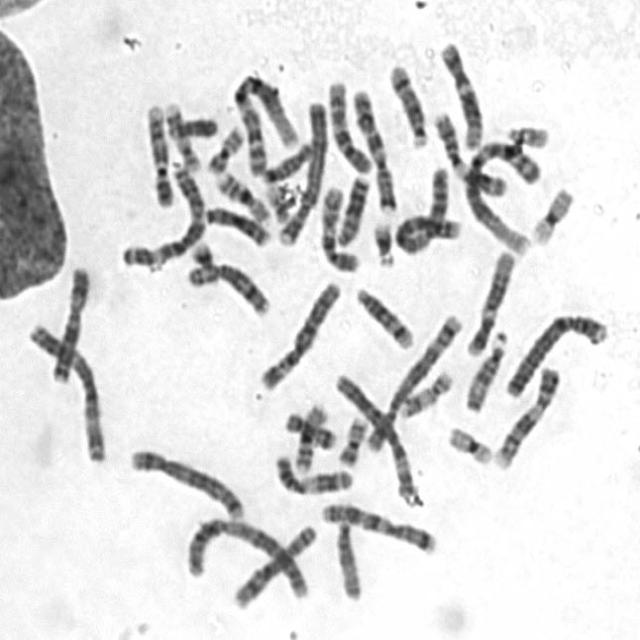A1: (459, 130, 546, 257), (225, 66, 300, 178)
A2: (179, 508, 314, 602), (390, 159, 458, 256)
A3: (22, 315, 109, 465), (115, 156, 209, 268)
B4: (499, 304, 612, 401), (271, 93, 329, 248)
B5: (358, 305, 466, 454), (123, 440, 248, 522)
C10: (322, 72, 374, 174), (314, 178, 362, 274)
C11: (426, 103, 510, 199), (268, 448, 354, 498)
C12: (461, 243, 517, 358), (434, 34, 485, 151)
C6: (329, 365, 419, 503), (254, 273, 344, 392)
C7: (315, 494, 439, 556), (347, 81, 400, 214)
C8: (228, 518, 319, 610), (180, 255, 272, 318)
C9: (487, 358, 563, 470), (140, 95, 175, 210)
D13: (198, 197, 274, 248), (331, 167, 371, 248)
D14: (349, 279, 417, 351), (383, 56, 430, 150)
D15: (460, 324, 511, 415), (330, 512, 364, 601)
E16: (211, 163, 272, 226), (288, 396, 330, 474)
E17: (395, 362, 456, 420), (159, 95, 203, 175)
E18: (259, 136, 317, 185), (280, 403, 340, 450)
F19: (526, 180, 577, 247), (442, 419, 494, 467)
F20: (202, 118, 247, 176), (333, 409, 370, 468)
G21: (368, 213, 397, 268), (185, 233, 218, 272)
G22: (500, 116, 552, 150), (261, 178, 295, 224)
X: (46, 258, 93, 385)
Y: (159, 106, 220, 140)
